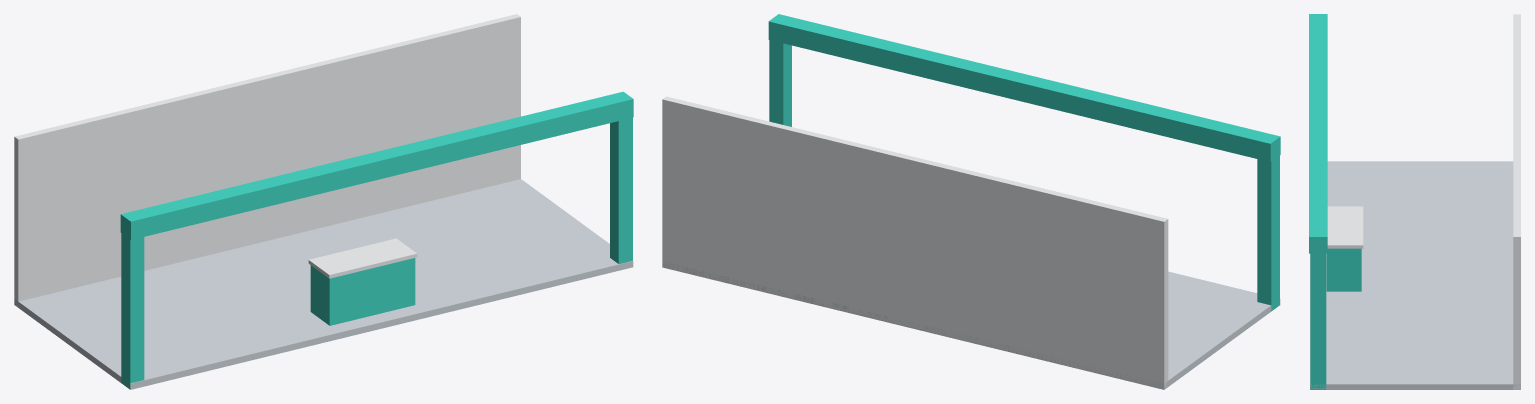
The picture shows the model from 3 angles, left to right: view 1: azimuth 30°, elevation 25°; view 2: azimuth 150°, elevation 25°; view 3: azimuth 270°, elevation 25°; orthographic projection. The views are drawn at different scales.
Parts seen in each view (by area): view 1: Exhibition Booth Concept; view 2: Exhibition Booth Concept; view 3: Exhibition Booth Concept.
Boxes of the visible parts, box(x1,y1,x2,y2) form: Exhibition Booth Concept: box(14, 14, 633, 389); Exhibition Booth Concept: box(662, 14, 1280, 389); Exhibition Booth Concept: box(1309, 14, 1520, 389).
Size of the model in its own units: 10 by 3.2 by 4.02.
